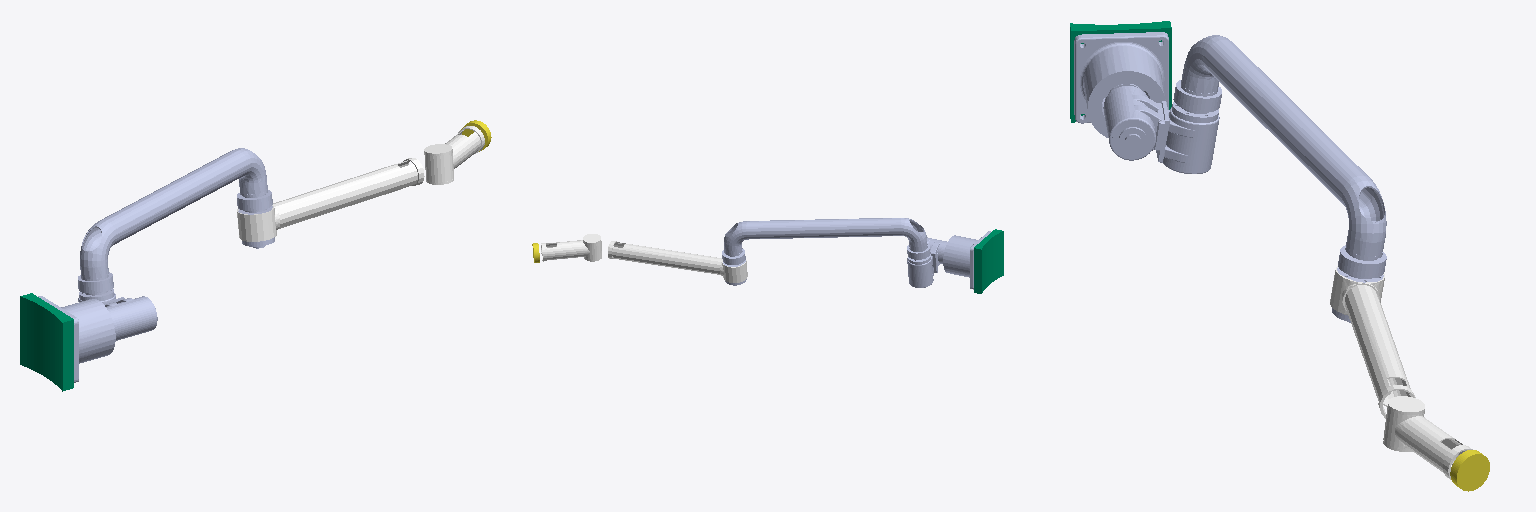
URDF robot description (legacy10__starlink_sldasm9):
<?xml version='1.0' encoding='utf-8'?>
<robot name="legacy10__starlink_sldasm9">
  <link name="base_link">
    <visual>
      <geometry>
        <mesh filename="../satellites/legacy10/satellite.stl" />
      </geometry>
    </visual>
    <collision>
      <geometry>
        <mesh filename="../satellites/legacy10/satellite.stl" />
      </geometry>
    </collision>
  </link>
  <link name="legacy10_mount" />
  <joint name="satellite_mount_fixed" type="fixed">
    <parent link="base_link" />
    <child link="legacy10_mount" />
    <origin xyz="0.6696842409943525 0.04390860234940623 2.6205085134159303" rpy="-1.4013235016818726e-12 -1.5707955494145627 -3.06792001243422" />
  </joint>
  <link name="mount_support">
    <visual>
      <geometry>
        <mesh filename="../satellites/legacy10/mount_support.stl" />
      </geometry>
    </visual>
    <collision>
      <geometry>
        <mesh filename="../satellites/legacy10/mount_support.stl" />
      </geometry>
    </collision>
  </link>
  <joint name="support_fixed" type="fixed">
    <parent link="legacy10_mount" />
    <child link="mount_support" />
    <origin xyz="0 0 0" rpy="0 0 0" />
  </joint>
  <joint name="arm_adapter_fixed" type="fixed">
    <parent link="legacy10_mount" />
    <child link="starlink_space_manipulator_base_link" />
    <origin xyz="0.009087204933166504 0.008519247174263 0.16000000119209304" rpy="-1.5707963267948966 0 0.0" />
  </joint>
  <link name="starlink_space_manipulator_base_link">
    <inertial>
      <origin xyz="-0.00908719924946466 0.0225428225681148 -0.00851924929637313" rpy="0 0 0" />
      <mass value="8.66024015898073" />
      <inertia ixx="0.0960303512697639" ixy="1.65511904636803E-18" ixz="6.22039820639877E-19" iyy="0.103454922260914" iyz="-9.68471289978311E-19" izz="0.0960303512697639" />
    </inertial>
    <visual>
      <origin xyz="0 0 0" rpy="0 0 0" />
      <geometry>
        <mesh filename="../arms/starlink_sldasm9/meshes/starlink_space_manipulator_base_link.STL" />
      </geometry>
      <material name="">
        <color rgba="0.792156862745098 0.819607843137255 0.933333333333333 1" />
      </material>
    </visual>
    <collision>
      <origin xyz="0 0 0" rpy="0 0 0" />
      <geometry>
        <mesh filename="../arms/starlink_sldasm9/meshes/starlink_space_manipulator_base_link.STL" />
      </geometry>
    </collision>
  </link>
  <link name="starlink_space_manipulator_Shoulder_link_1">
    <inertial>
      <origin xyz="-0.000399471745595769 -0.100006574194712 -0.17423940484461" rpy="0 0 0" />
      <mass value="5.16309216784981" />
      <inertia ixx="0.0524543852135592" ixy="0.00348154867667969" ixz="6.96526910910627E-05" iyy="0.0306595326318824" iyz="-0.00056674368052247" izz="0.0439979075615329" />
    </inertial>
    <visual>
      <origin xyz="0 0 0" rpy="0 0 0" />
      <geometry>
        <mesh filename="../arms/starlink_sldasm9/meshes/starlink_space_manipulator_Shoulder_link_1.STL" />
      </geometry>
      <material name="">
        <color rgba="0.792156862745098 0.819607843137255 0.933333333333333 1" />
      </material>
    </visual>
    <collision>
      <origin xyz="0 0 0" rpy="0 0 0" />
      <geometry>
        <mesh filename="../arms/starlink_sldasm9/meshes/starlink_space_manipulator_Shoulder_link_1.STL" />
      </geometry>
    </collision>
  </link>
  <joint name="starlink_space_manipulator_Shoulder_link_1_yaw" type="revolute">
    <origin xyz="-0.0090872 -0.065 -0.0085192" rpy="1.5708 -0.15574 3.1416" />
    <parent link="starlink_space_manipulator_base_link" />
    <child link="starlink_space_manipulator_Shoulder_link_1" />
    <axis xyz="0 0 -1" />
    <limit lower="-3.14" upper="3.14" effort="0" velocity="0" />
  </joint>
  <link name="starlink_space_manipulator_Upper_arm_Link_1">
    <inertial>
      <origin xyz="0.402106341472203 -0.696465272634528 -0.170177523085579" rpy="0 0 0" />
      <mass value="5.05309869040685" />
      <inertia ixx="0.388719013133801" ixy="0.210155896498943" ixz="9.30829370680679E-08" iyy="0.146049057575642" iyz="1.71830458004218E-07" izz="0.500677708275447" />
    </inertial>
    <visual>
      <origin xyz="0 0 0" rpy="0 0 0" />
      <geometry>
        <mesh filename="../arms/starlink_sldasm9/meshes/starlink_space_manipulator_Upper_arm_Link_1.STL" />
      </geometry>
      <material name="">
        <color rgba="0.792156862745098 0.819607843137255 0.933333333333333 1" />
      </material>
    </visual>
    <collision>
      <origin xyz="0 0 0" rpy="0 0 0" />
      <geometry>
        <mesh filename="../arms/starlink_sldasm9/meshes/starlink_space_manipulator_Upper_arm_Link_1.STL" />
      </geometry>
    </collision>
  </link>
  <joint name="starlink_space_manipulator_Upper_arm_Link_1_roll" type="revolute">
    <origin xyz="0 -0.2 -0.18" rpy="1.5708 0.90646 1.5708" />
    <parent link="starlink_space_manipulator_Shoulder_link_1" />
    <child link="starlink_space_manipulator_Upper_arm_Link_1" />
    <axis xyz="0 0 -1" />
    <limit lower="-2" upper="1.5" effort="0" velocity="0" />
  </joint>
  <link name="starlink_space_manipulator_Mid_arm_Link_1">
    <inertial>
      <origin xyz="-0.000406052776441013 0.317722269561105 0.0155331755135703" rpy="0 0 0" />
      <mass value="1.57635531881168" />
      <inertia ixx="0.133610363618846" ixy="5.33750993405138E-05" ixz="-3.60473795202962E-09" iyy="0.00502119434334708" iyz="-2.514275749911E-05" izz="0.134586018527477" />
    </inertial>
    <visual>
      <origin xyz="0 0 0" rpy="0 0 0" />
      <geometry>
        <mesh filename="../arms/starlink_sldasm9/meshes/starlink_space_manipulator_Mid_arm_Link_1.STL" />
      </geometry>
      <material name="">
        <color rgba="1 1 1 1" />
      </material>
    </visual>
    <collision>
      <origin xyz="0 0 0" rpy="0 0 0" />
      <geometry>
        <mesh filename="../arms/starlink_sldasm9/meshes/starlink_space_manipulator_Mid_arm_Link_1.STL" />
      </geometry>
    </collision>
  </link>
  <joint name="starlink_space_manipulator_Mid_arm_Link_1_roll" type="revolute">
    <origin xyz="0.599999999999673 -1.03923048454122 0" rpy="-3.14159265358979 0 0.828250280535091" />
    <parent link="starlink_space_manipulator_Upper_arm_Link_1" />
    <child link="starlink_space_manipulator_Mid_arm_Link_1" />
    <axis xyz="0 0 -1" />
    <limit lower="-3.14" upper="3.14" effort="0" velocity="0" />
  </joint>
  <link name="starlink_space_manipulator_Upper_wrist_Link_1">
    <inertial>
      <origin xyz="-0.000400003664721815 -0.201565878030355 -0.00216705855311664" rpy="0 0 0" />
      <mass value="0.994770641034713" />
      <inertia ixx="0.00165409639029414" ixy="-7.59103925411082E-06" ixz="-3.17403155320863E-06" iyy="0.00201437937768072" iyz="2.63246464091218E-06" izz="0.00159638838344539" />
    </inertial>
    <visual>
      <origin xyz="0 0 0" rpy="0 0 0" />
      <geometry>
        <mesh filename="../arms/starlink_sldasm9/meshes/starlink_space_manipulator_Upper_wrist_Link_1.STL" />
      </geometry>
      <material name="">
        <color rgba="0.792156862745098 0.819607843137255 0.933333333333333 1" />
      </material>
    </visual>
    <collision>
      <origin xyz="0 0 0" rpy="0 0 0" />
      <geometry>
        <mesh filename="../arms/starlink_sldasm9/meshes/starlink_space_manipulator_Upper_wrist_Link_1.STL" />
      </geometry>
    </collision>
  </link>
  <joint name="starlink_space_manipulator_Upper_wrist_Link_1_yaw" type="revolute">
    <origin xyz="-0.00050155183276912 0.686793643713439 0.0155010481432086" rpy="0 -0.0763876794035917 3.14159265358979" />
    <parent link="starlink_space_manipulator_Mid_arm_Link_1" />
    <child link="starlink_space_manipulator_Upper_wrist_Link_1" />
    <axis xyz="0 -1 0" />
    <limit lower="-3.14" upper="3.14" effort="0" velocity="0" />
  </joint>
  <link name="starlink_space_manipulator_Upper_wrist_Link_2">
    <inertial>
      <origin xyz="8.45304168883843E-08 0.0848318719623631 -0.00515657391755576" rpy="0 0 0" />
      <mass value="1.03716823037577" />
      <inertia ixx="0.0100970561498589" ixy="1.32295633551837E-09" ixz="-9.43675929999229E-09" iyy="0.00222325407426665" iyz="-2.08772874866187E-06" izz="0.0105840577017538" />
    </inertial>
    <visual>
      <origin xyz="0 0 0" rpy="0 0 0" />
      <geometry>
        <mesh filename="../arms/starlink_sldasm9/meshes/starlink_space_manipulator_Upper_wrist_Link_2.STL" />
      </geometry>
      <material name="">
        <color rgba="1 1 1 1" />
      </material>
    </visual>
    <collision>
      <origin xyz="0 0 0" rpy="0 0 0" />
      <geometry>
        <mesh filename="../arms/starlink_sldasm9/meshes/starlink_space_manipulator_Upper_wrist_Link_2.STL" />
      </geometry>
    </collision>
  </link>
  <joint name="starlink_space_manipulator_Upper_wrist_Link_2_roll" type="revolute">
    <origin xyz="0 -0.30020635628656 0" rpy="-0.0158640776811277 -0.0317448426184613 -2.67805461574742" />
    <parent link="starlink_space_manipulator_Upper_wrist_Link_1" />
    <child link="starlink_space_manipulator_Upper_wrist_Link_2" />
    <axis xyz="0 0 1" />
    <limit lower="-2.5" upper="1.8" effort="0" velocity="0" />
  </joint>
  <link name="starlink__space_manipulator_2F-Body_Link">
    </link>
  <joint name="starlink__space_manipulator_2F-Body_Link_yaw" type="revolute">
    <origin xyz="0 0.34845 -0.0053813" rpy="-3.1416 0.93592 0" />
    <parent link="starlink_space_manipulator_Upper_wrist_Link_2" />
    <child link="starlink__space_manipulator_2F-Body_Link" />
    <axis xyz="0 -1 0" />
    <limit lower="-3.14" upper="3.14" effort="0" velocity="0" />
  </joint>
  <link name="angular_hand">
    <visual>
      <geometry>
        <mesh filename="../arms/starlink_sldasm9/meshes/hand_2finger.STL" scale="2 2 2" />
      </geometry>
    </visual>
    <collision>
      <geometry>
        <mesh filename="../arms/starlink_sldasm9/meshes/hand_2finger.STL" scale="2 2 2" />
      </geometry>
    </collision>
  </link>
  <joint name="angular_hand_fixed" type="fixed">
    <parent link="starlink__space_manipulator_2F-Body_Link" />
    <child link="angular_hand" />
    <origin xyz="0 -0.036 0" rpy="-1.5707963267948966 0 0" />
  </joint>
  <link name="angular_adapter">
    <visual>
      <geometry>
        <mesh filename="../arms/starlink_sldasm9/meshes/angular_adapter.stl" />
      </geometry>
    </visual>
    <collision>
      <geometry>
        <mesh filename="../arms/starlink_sldasm9/meshes/angular_adapter.stl" />
      </geometry>
    </collision>
  </link>
  <joint name="angular_adapter_fixed" type="fixed">
    <parent link="starlink__space_manipulator_2F-Body_Link" />
    <child link="angular_adapter" />
    <origin xyz="0 -0.0005 0" rpy="1.5707963267948966 0 0" />
  </joint>
  <link name="angular_finger_1">
    <visual>
      <geometry>
        <mesh filename="../arms/starlink_sldasm9/meshes/finger_proximal.STL" scale="2 2 2" />
      </geometry>
    </visual>
    <collision>
      <geometry>
        <mesh filename="../arms/starlink_sldasm9/meshes/finger_proximal.STL" scale="2 2 2" />
      </geometry>
    </collision>
  </link>
  <link name="angular_tip_1">
    <visual>
      <geometry>
        <mesh filename="../arms/starlink_sldasm9/meshes/finger_distal.STL" scale="2 2 2" />
      </geometry>
    </visual>
    <collision>
      <geometry>
        <mesh filename="../arms/starlink_sldasm9/meshes/finger_distal.STL" scale="2 2 2" />
      </geometry>
    </collision>
  </link>
  <joint name="angular_joint_1" type="revolute">
    <parent link="angular_hand" />
    <child link="angular_finger_1" />
    <axis xyz="0 0 1" />
    <origin xyz="-0.005 0.0619 -0.22964" rpy="-1.570796327 .649262481663582 1.5707963267948966" />
    <limit lower="0" upper="1.51" effort="2" velocity="1" />
  </joint>
  <joint name="angular_joint_tip_1" type="revolute">
    <parent link="angular_finger_1" />
    <child link="angular_tip_1" />
    <axis xyz="0 0 1" />
    <origin xyz="0.088 -0.006 0.0" rpy="0 0 0" />
    <limit lower="0" upper="2" effort="2" velocity="1" />
  </joint>
  <link name="angular_finger_2">
    <visual>
      <geometry>
        <mesh filename="../arms/starlink_sldasm9/meshes/finger_proximal.STL" scale="2 2 2" />
      </geometry>
    </visual>
    <collision>
      <geometry>
        <mesh filename="../arms/starlink_sldasm9/meshes/finger_proximal.STL" scale="2 2 2" />
      </geometry>
    </collision>
  </link>
  <link name="angular_tip_2">
    <visual>
      <geometry>
        <mesh filename="../arms/starlink_sldasm9/meshes/finger_distal.STL" scale="2 2 2" />
      </geometry>
    </visual>
    <collision>
      <geometry>
        <mesh filename="../arms/starlink_sldasm9/meshes/finger_distal.STL" scale="2 2 2" />
      </geometry>
    </collision>
  </link>
  <joint name="angular_joint_2" type="revolute">
    <parent link="angular_hand" />
    <child link="angular_finger_2" />
    <axis xyz="0 0 1" />
    <origin xyz="-0.005 -0.0619 -0.22964" rpy="-1.570796327 .649262481663582 -1.5707963267948966" />
    <limit lower="0" upper="1.51" effort="2" velocity="1" />
  </joint>
  <joint name="angular_joint_tip_2" type="revolute">
    <parent link="angular_finger_2" />
    <child link="angular_tip_2" />
    <axis xyz="0 0 1" />
    <origin xyz="0.088 -0.006 0.0" rpy="0 0 0" />
    <limit lower="0" upper="2" effort="2" velocity="1" />
  </joint>
  <link name="angular_tcp" />
  <joint name="angular_tcp_fixed" type="fixed">
    <parent link="angular_hand" />
    <child link="angular_tcp" />
    <origin xyz="-0.005 0 -0.34" rpy="3.141592653589793 0 0" />
  </joint>
</robot>

--- Facts derived from the render (not from the file) ---
Views: 3 orthographic renders of the robot side by side, from view 1: azimuth 30°, elevation 25°; view 2: azimuth 150°, elevation 25°; view 3: azimuth 270°, elevation 25°.
Robot: legacy10__starlink_sldasm9 — 17 links, 16 joints (10 revolute, 6 fixed); root link base_link; default pose: all joints at 0.
Visible links, largest first — view 1: starlink_space_manipulator_Upper_arm_Link_1, starlink_space_manipulator_Mid_arm_Link_1, mount_support, starlink_space_manipulator_base_link, starlink_space_manipulator_Shoulder_link_1, starlink_space_manipulator_Upper_wrist_Link_2; view 2: starlink_space_manipulator_Upper_arm_Link_1, starlink_space_manipulator_Mid_arm_Link_1, mount_support, starlink_space_manipulator_Shoulder_link_1, starlink_space_manipulator_base_link, starlink_space_manipulator_Upper_wrist_Link_2; view 3: starlink_space_manipulator_Upper_arm_Link_1, starlink_space_manipulator_Shoulder_link_1, starlink_space_manipulator_base_link, starlink_space_manipulator_Mid_arm_Link_1, starlink_space_manipulator_Upper_wrist_Link_2, mount_support, angular_adapter.
Link boxes in pixels (box(x1,y1,x2,y2)): starlink_space_manipulator_Upper_arm_Link_1: box(80, 148, 274, 280); starlink_space_manipulator_Mid_arm_Link_1: box(237, 158, 424, 241); mount_support: box(20, 293, 73, 391); starlink_space_manipulator_base_link: box(38, 296, 115, 382); starlink_space_manipulator_Shoulder_link_1: box(78, 272, 157, 340); starlink_space_manipulator_Upper_wrist_Link_2: box(424, 126, 484, 184); starlink_space_manipulator_Upper_arm_Link_1: box(722, 218, 927, 285); starlink_space_manipulator_Mid_arm_Link_1: box(608, 241, 747, 282); mount_support: box(974, 229, 1003, 293); starlink_space_manipulator_Shoulder_link_1: box(907, 237, 946, 287); starlink_space_manipulator_base_link: box(943, 231, 990, 289); starlink_space_manipulator_Upper_wrist_Link_2: box(541, 234, 601, 261); starlink_space_manipulator_Upper_arm_Link_1: box(1181, 35, 1386, 322); starlink_space_manipulator_Shoulder_link_1: box(1103, 80, 1221, 173); starlink_space_manipulator_base_link: box(1074, 32, 1168, 137); starlink_space_manipulator_Mid_arm_Link_1: box(1330, 266, 1415, 418); starlink_space_manipulator_Upper_wrist_Link_2: box(1383, 396, 1472, 479); mount_support: box(1070, 21, 1171, 122); angular_adapter: box(1450, 450, 1489, 491).
Bounding box of the posed robot: 2.82 × 1.34 × 0.5238 m (x, y, z).
7 mesh visuals loaded from 12 distinct referenced files (7 binary STL); not drawn: 7 (reference not matched to a file when rendering).
